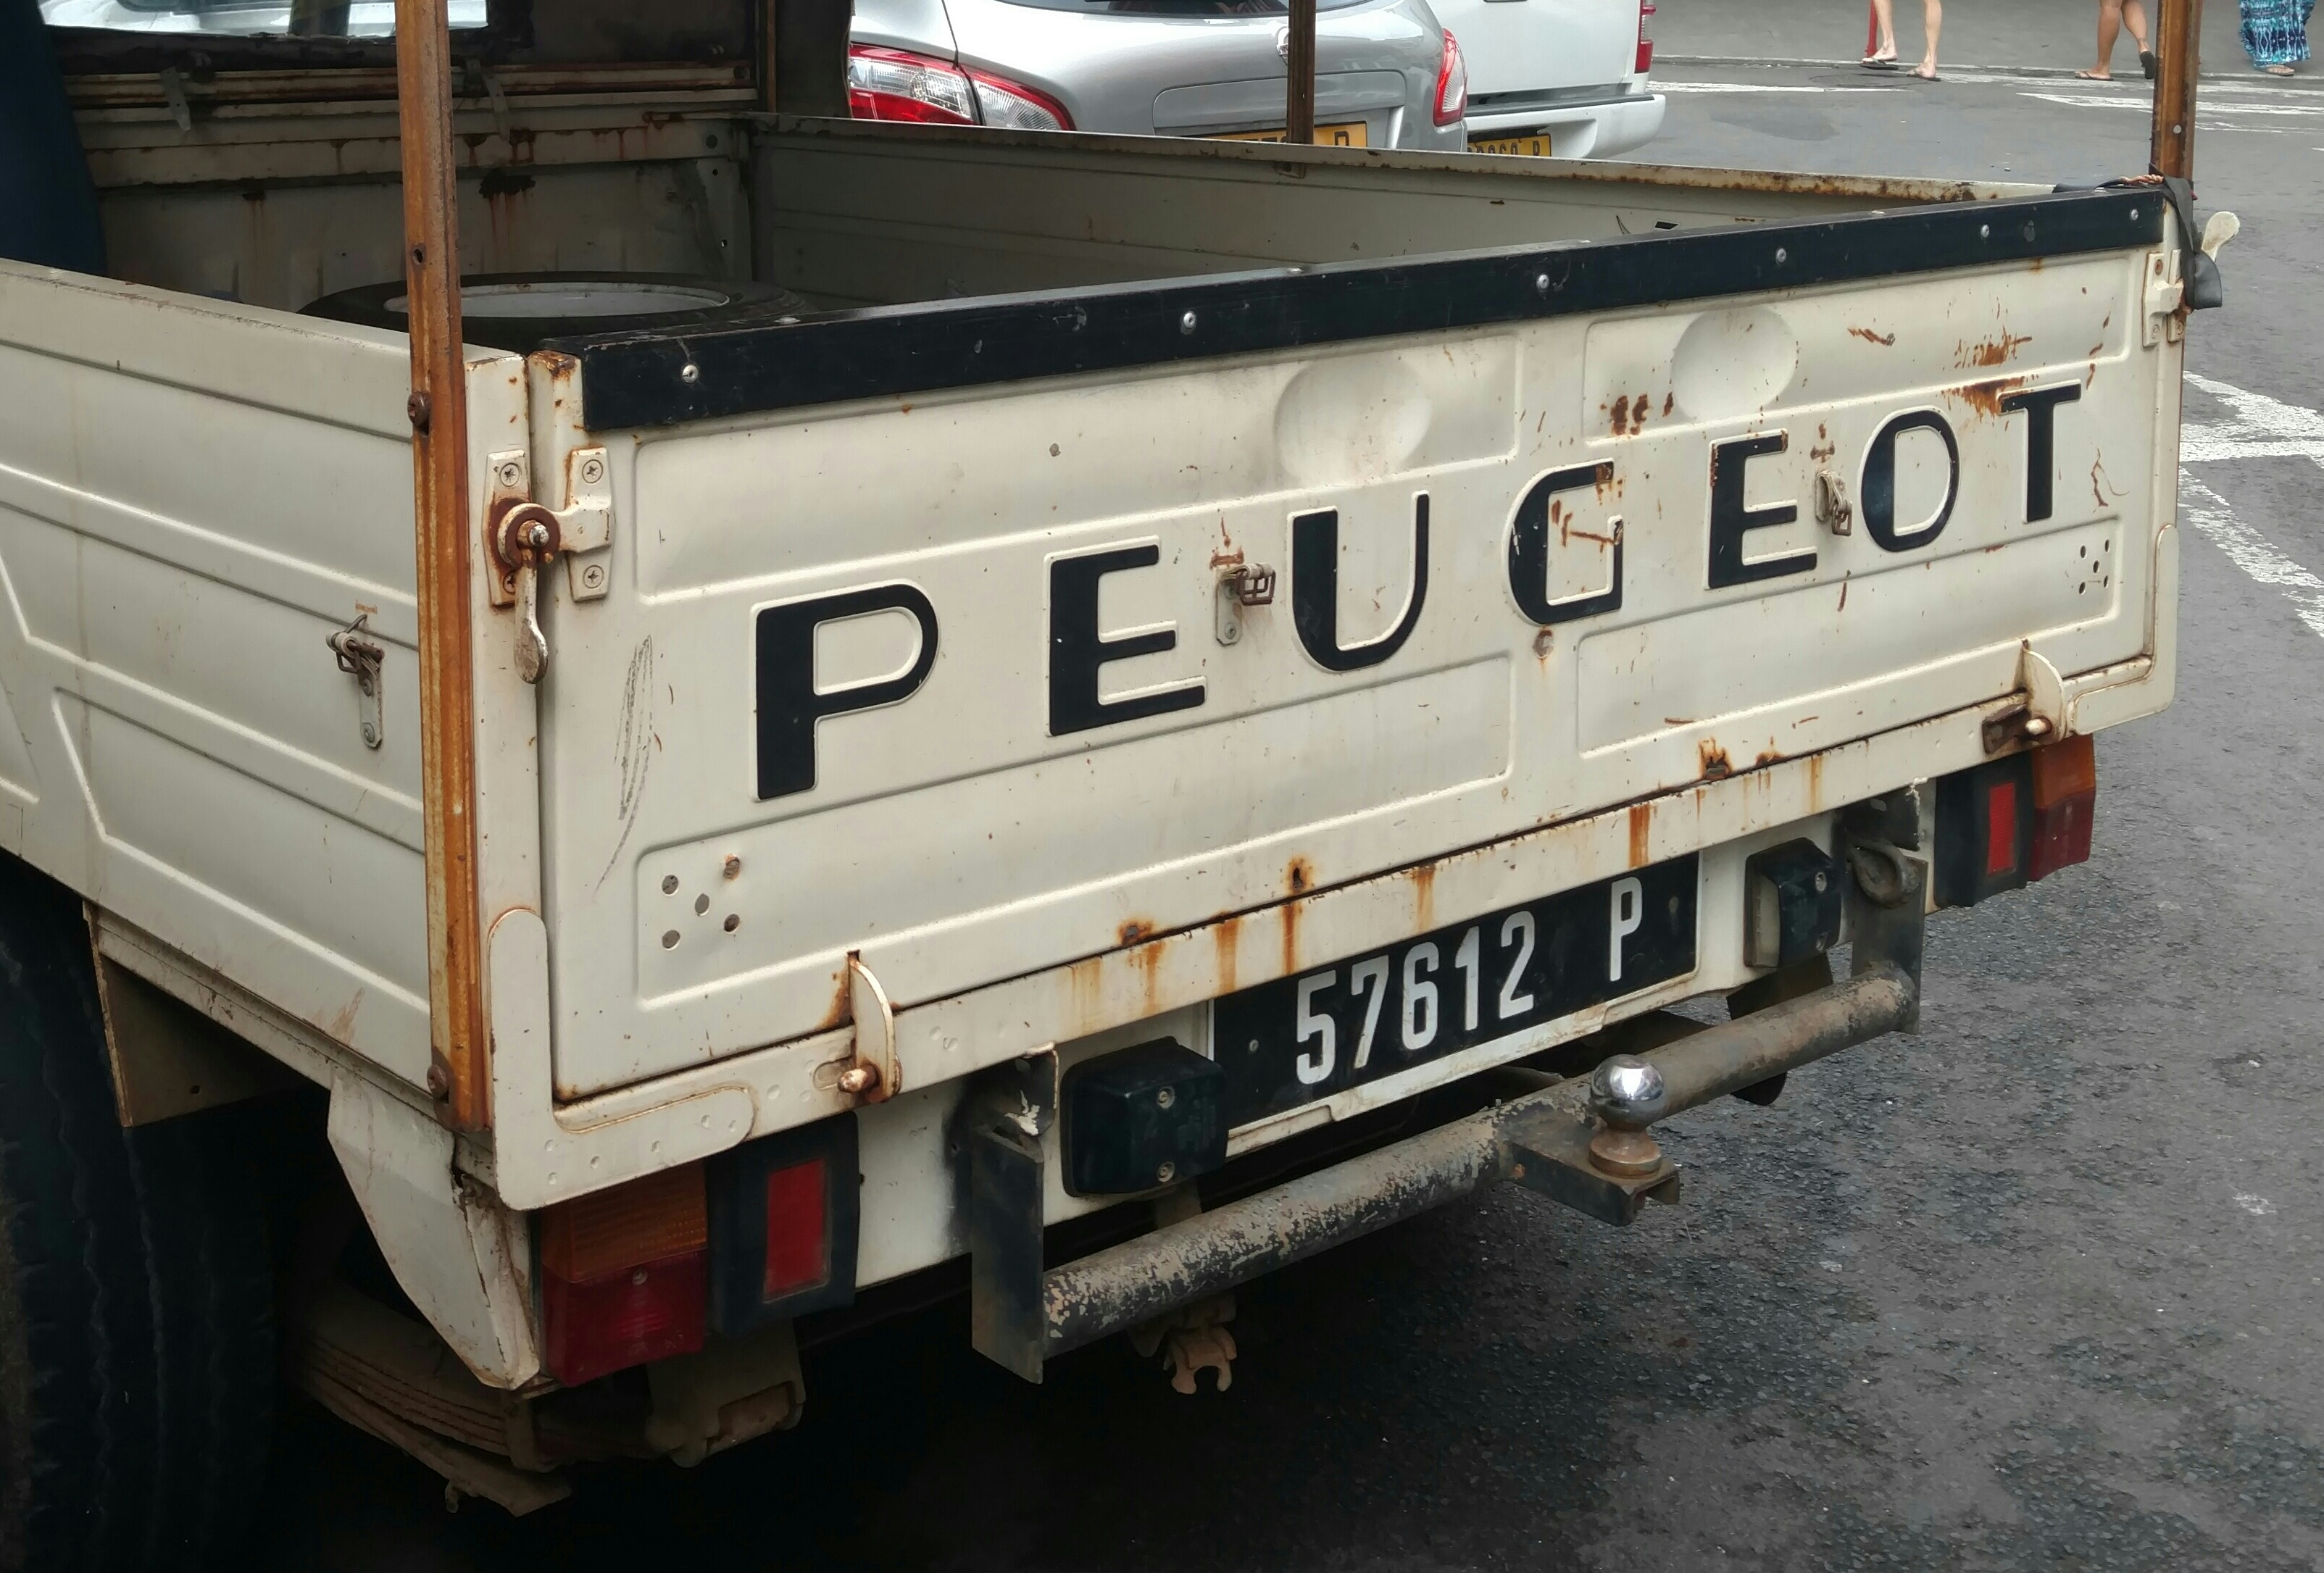license plate: (1211, 825, 1712, 1146)
